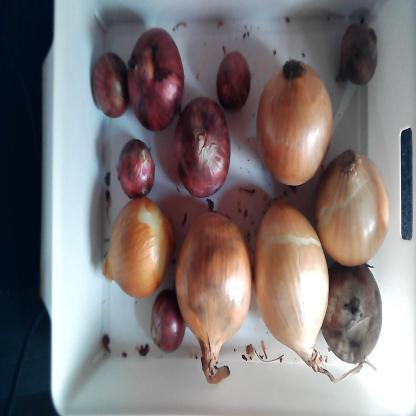onion: (247, 198, 330, 366), (168, 207, 254, 368), (258, 46, 335, 190), (319, 145, 393, 262), (124, 26, 186, 138), (173, 94, 233, 209), (104, 198, 173, 296), (88, 48, 128, 130), (214, 45, 255, 121), (114, 134, 160, 198), (151, 280, 188, 358)
